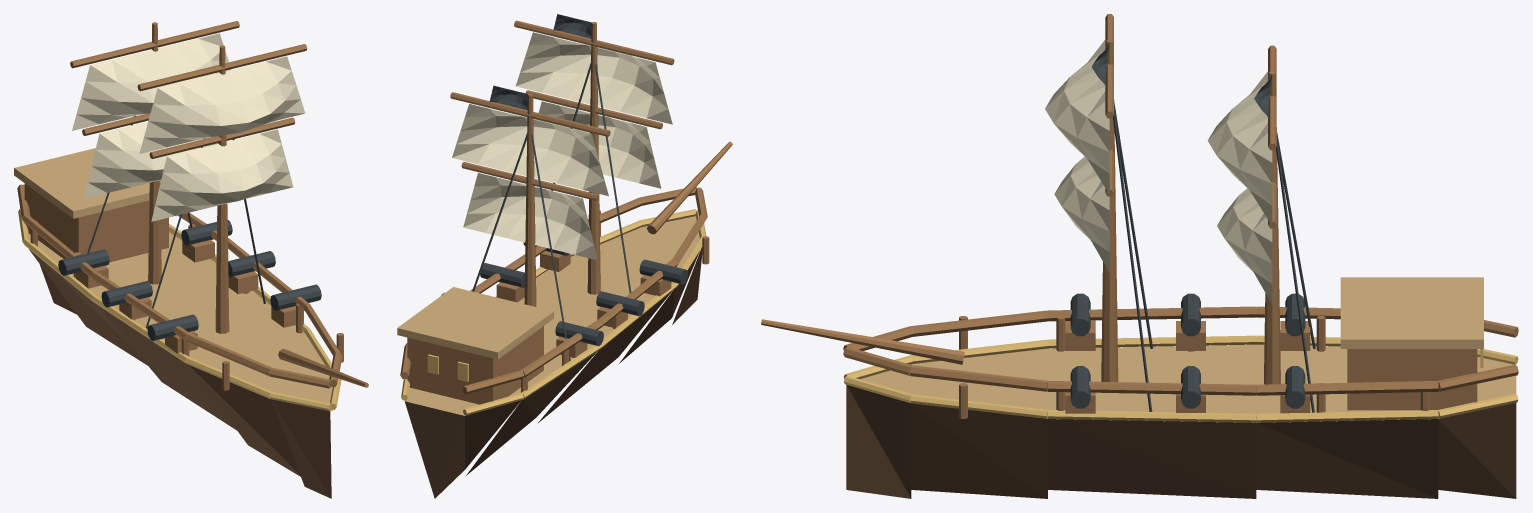
Rendered from npc_crimson_scout.glb.
The picture shows the model from 3 angles, left to right: view 1: azimuth 30°, elevation 25°; view 2: azimuth 150°, elevation 25°; view 3: azimuth 270°, elevation 25°; orthographic projection. The views are drawn at different scales.
Parts seen in each view (by area): view 1: ship_medium; view 2: ship_medium; view 3: ship_medium.
Boxes of the visible parts, bbox=[...] form: ship_medium: bbox=[14, 21, 368, 498]; ship_medium: bbox=[397, 14, 732, 498]; ship_medium: bbox=[761, 14, 1518, 498].
Size of the model in its own units: 2.31 by 5.05 by 7.57.
